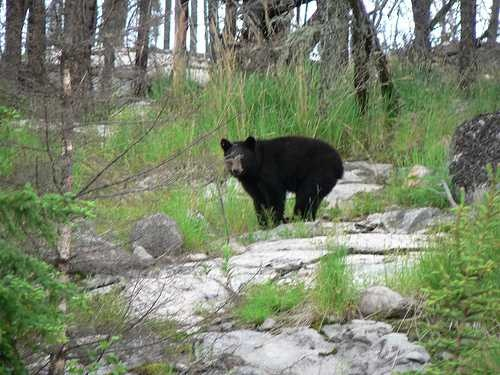bear: (218, 116, 347, 244)
